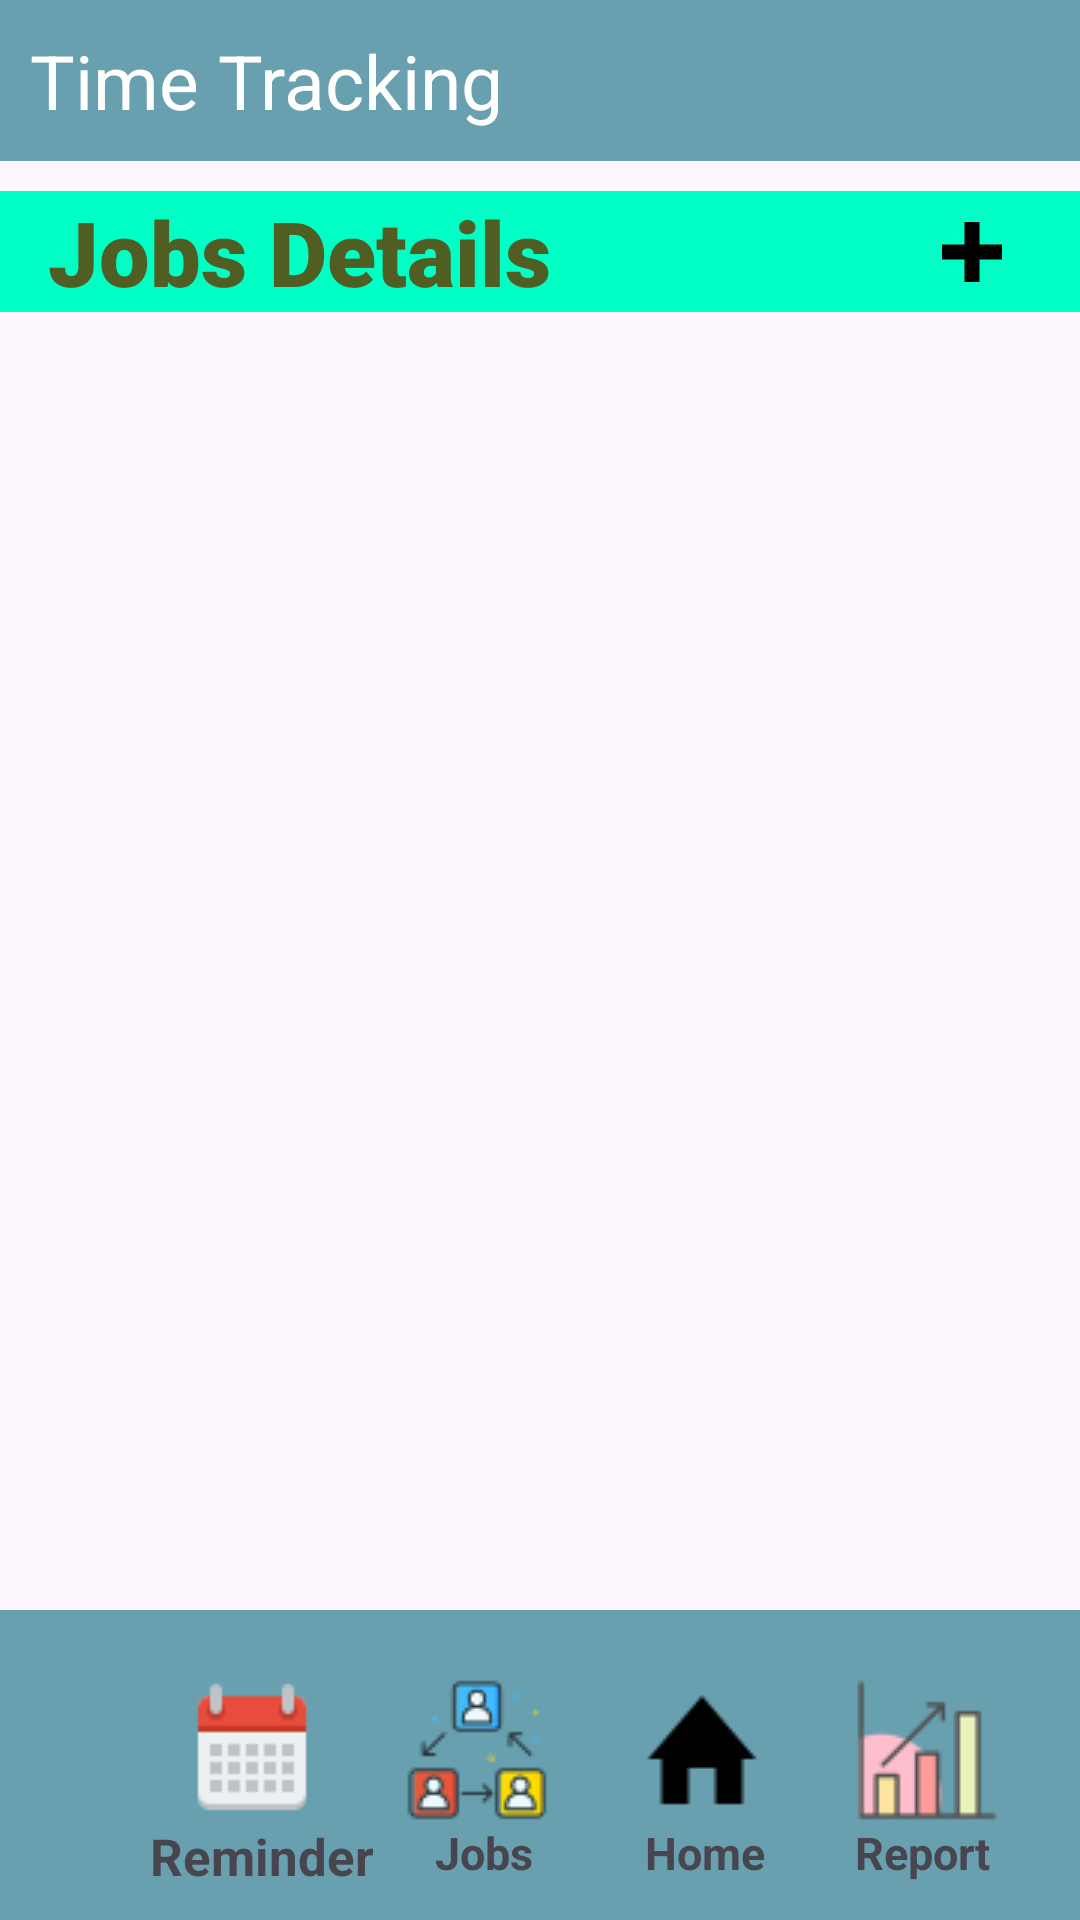

Icons on this 1080x1920 Android screen, each with its box as (left=x1, top=y1, right=x2, bottom=y2):
analytics: (left=858, top=1681, right=996, bottom=1820)
calendar: (left=197, top=1683, right=307, bottom=1811)
plus: (left=942, top=222, right=1002, bottom=282)
